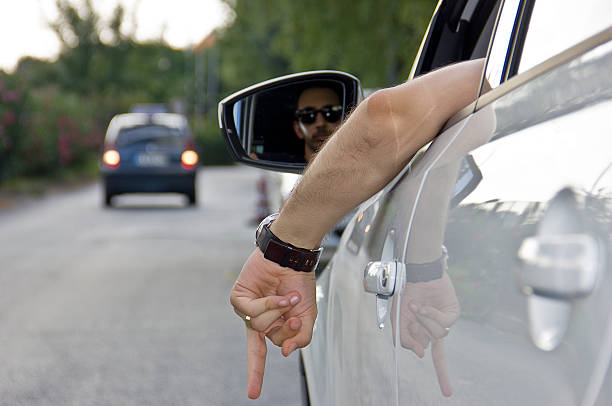insulting_gesture: (228, 259, 319, 398)
